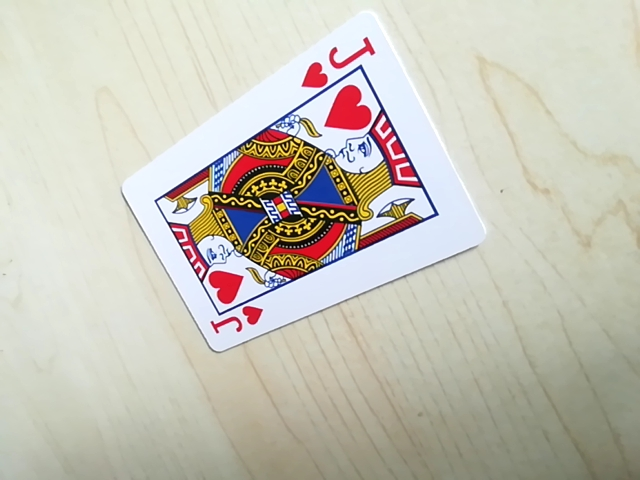hx j: (298, 28, 378, 94), (203, 304, 262, 345)
